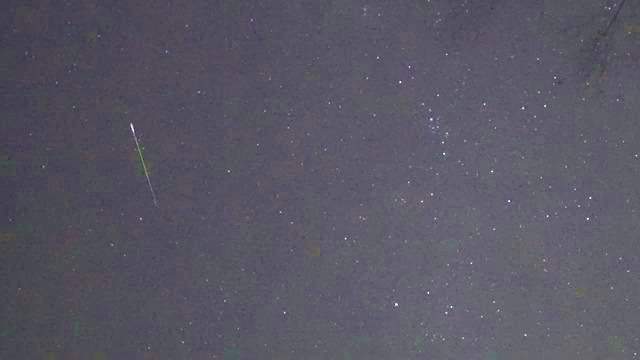meteorite: (118, 114, 162, 216)
